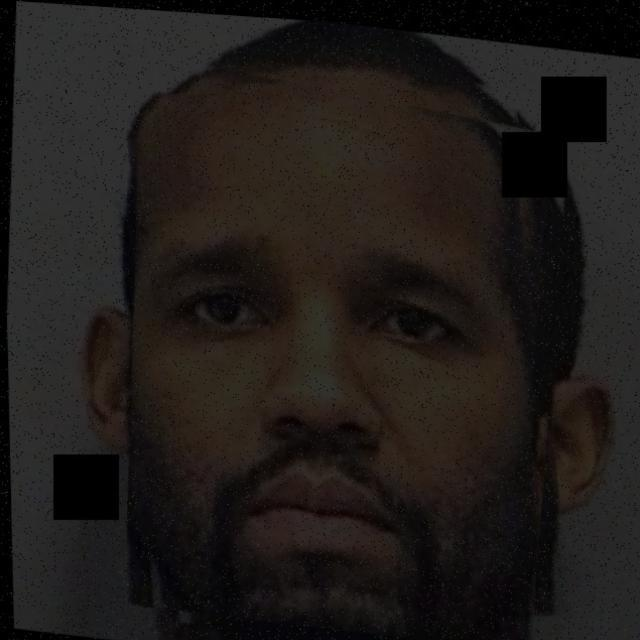Sad: (89, 126, 585, 640)
